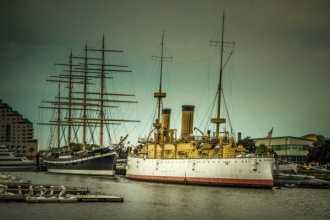fanchuan: (37, 35, 131, 175)
otherboat: (119, 122, 273, 187)
